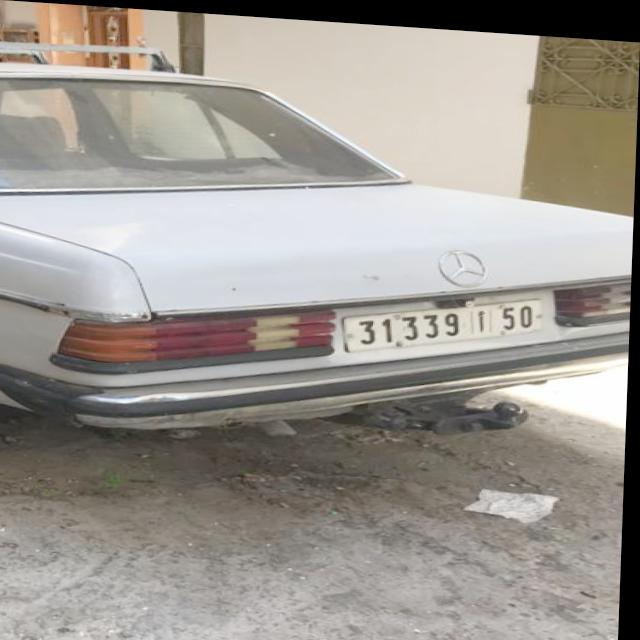License-Plate: (348, 293, 545, 346)
